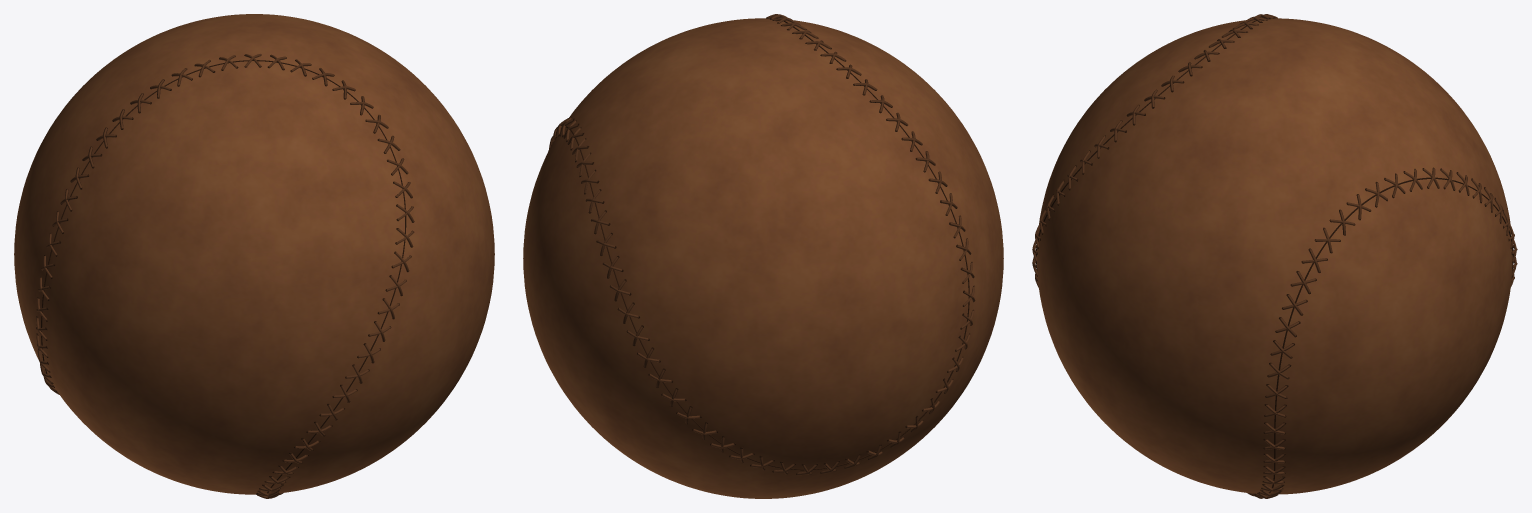
Rendered from leather-ball-brown.glb.
3 renders of one model, left to right at view 1: azimuth 30°, elevation 25°; view 2: azimuth 150°, elevation 25°; view 3: azimuth 270°, elevation 25°, orthographic.
Parts seen in each view (by area): view 1: leather-ball-brown; view 2: leather-ball-brown; view 3: leather-ball-brown.
Boxes of the visible parts, box(x1,y1,x2,y2) form: leather-ball-brown: box(14, 14, 494, 498); leather-ball-brown: box(523, 14, 1003, 498); leather-ball-brown: box(1032, 14, 1517, 498).
Bounding box in the file's own units: 0.0744 × 0.0731 × 0.0744.
3 materials, 1 textured.
